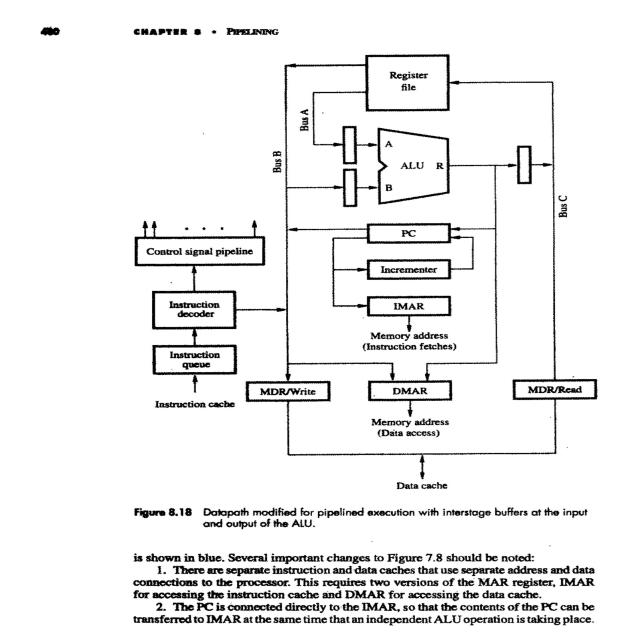diagram: (92, 51, 629, 532)
